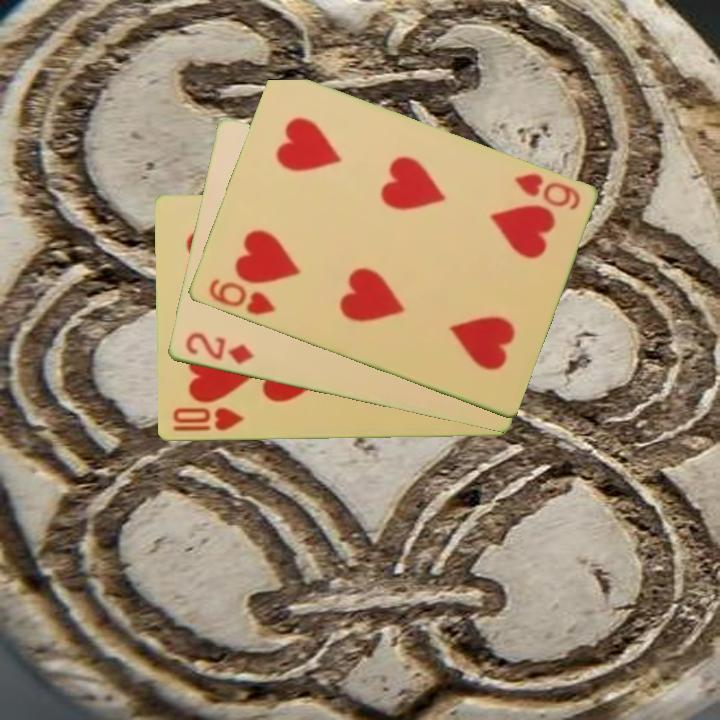10h: (169, 404, 247, 435)
2d: (181, 329, 257, 368)
6h: (205, 275, 278, 319), (511, 170, 583, 214)
